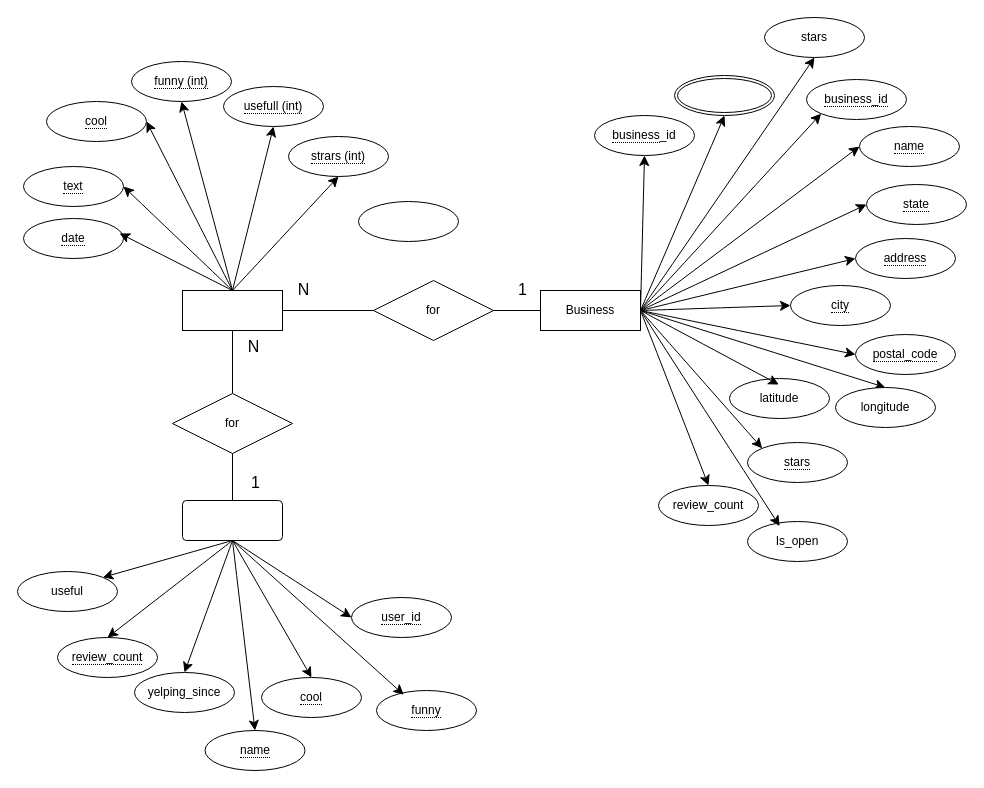
This 984x788 diagram has some shape labels left out. Each missing label, with the box of its shape:
categories: (674, 74, 774, 116)
Review: (182, 290, 282, 330)
review_id: (358, 200, 458, 242)
User: (182, 500, 282, 540)
